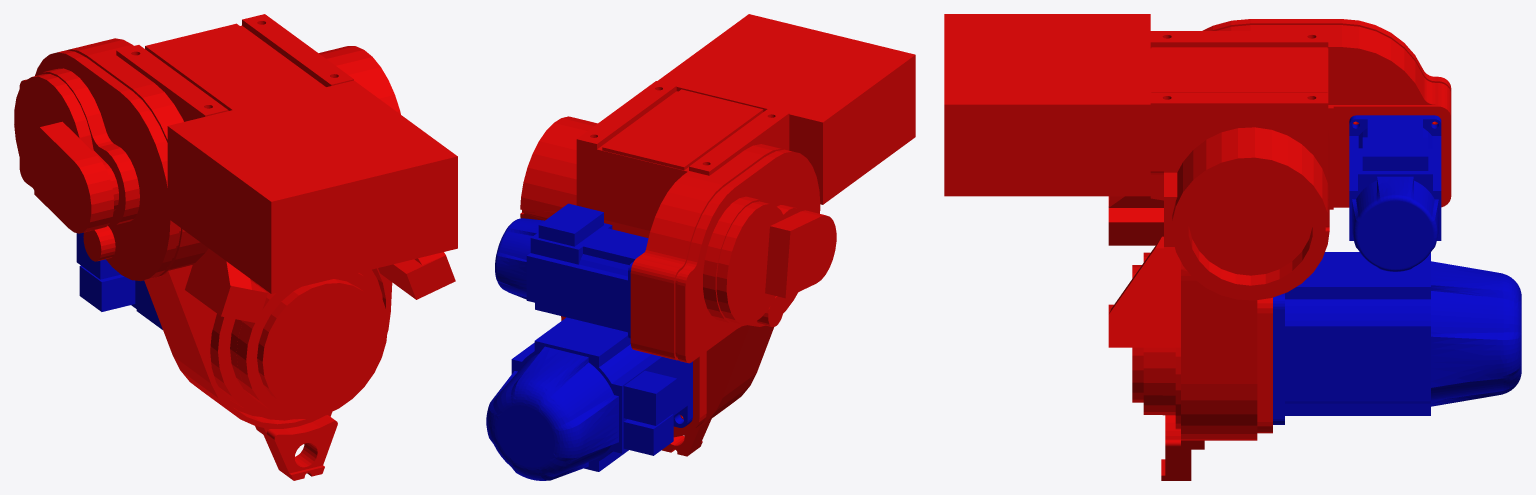
Rendered from axes_3.dae.
3 views of the same model, side by side, from view 1: azimuth 30°, elevation 25°; view 2: azimuth 150°, elevation 25°; view 3: azimuth 270°, elevation 25° (orthographic). The views are drawn at different scales.
Parts seen in each view (by area): view 1: ShapeIndexedFaceSet, ShapeIndexedFaceSet_002; view 2: ShapeIndexedFaceSet, ShapeIndexedFaceSet_002, ShapeIndexedFaceSet_001; view 3: ShapeIndexedFaceSet, ShapeIndexedFaceSet_002, ShapeIndexedFaceSet_001.
Boxes of the visible parts, box(x1,y1,x2,y2) form: ShapeIndexedFaceSet: box(14, 14, 457, 480); ShapeIndexedFaceSet_002: box(76, 232, 162, 329); ShapeIndexedFaceSet: box(520, 14, 915, 456); ShapeIndexedFaceSet_002: box(486, 317, 692, 480); ShapeIndexedFaceSet_001: box(495, 203, 648, 338); ShapeIndexedFaceSet: box(944, 14, 1451, 480); ShapeIndexedFaceSet_002: box(1273, 252, 1521, 424); ShapeIndexedFaceSet_001: box(1349, 115, 1441, 271).
Size of the model in its own units: 273 by 439 by 328.
